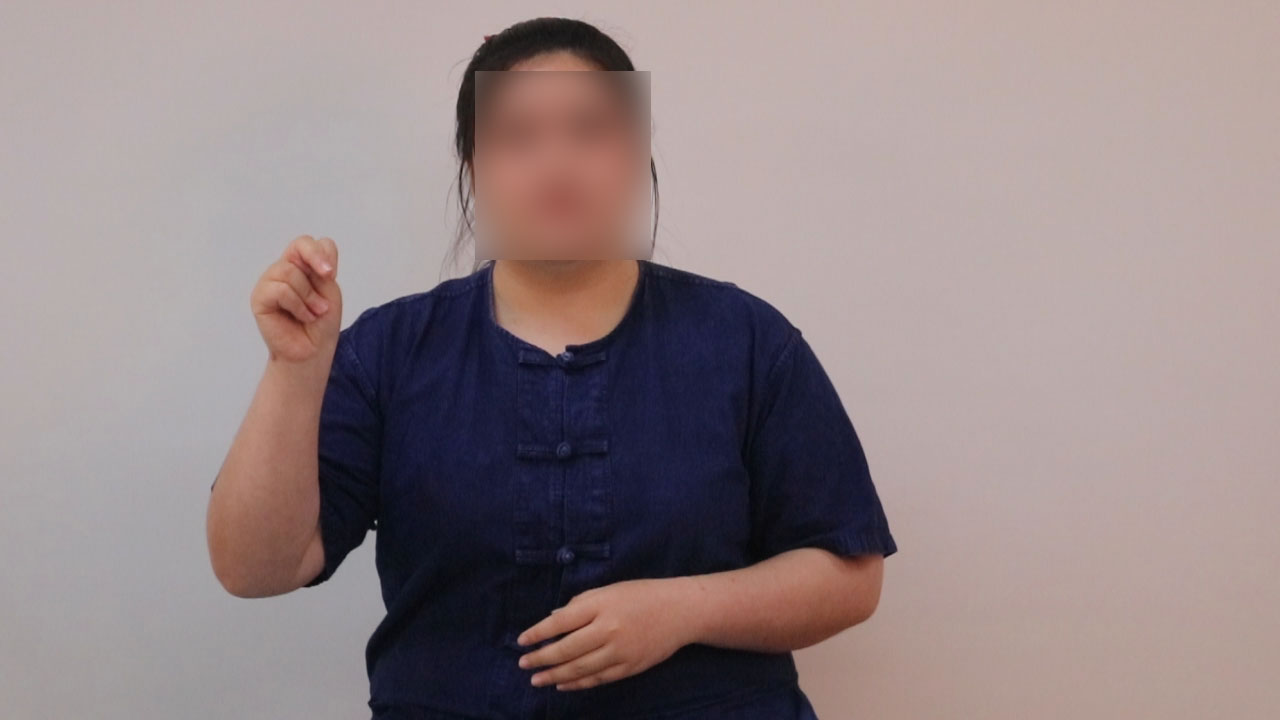nor: (243, 228, 356, 367)
